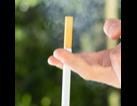Cigarette: (61, 15, 74, 106)
Smoke: (42, 0, 101, 29)
